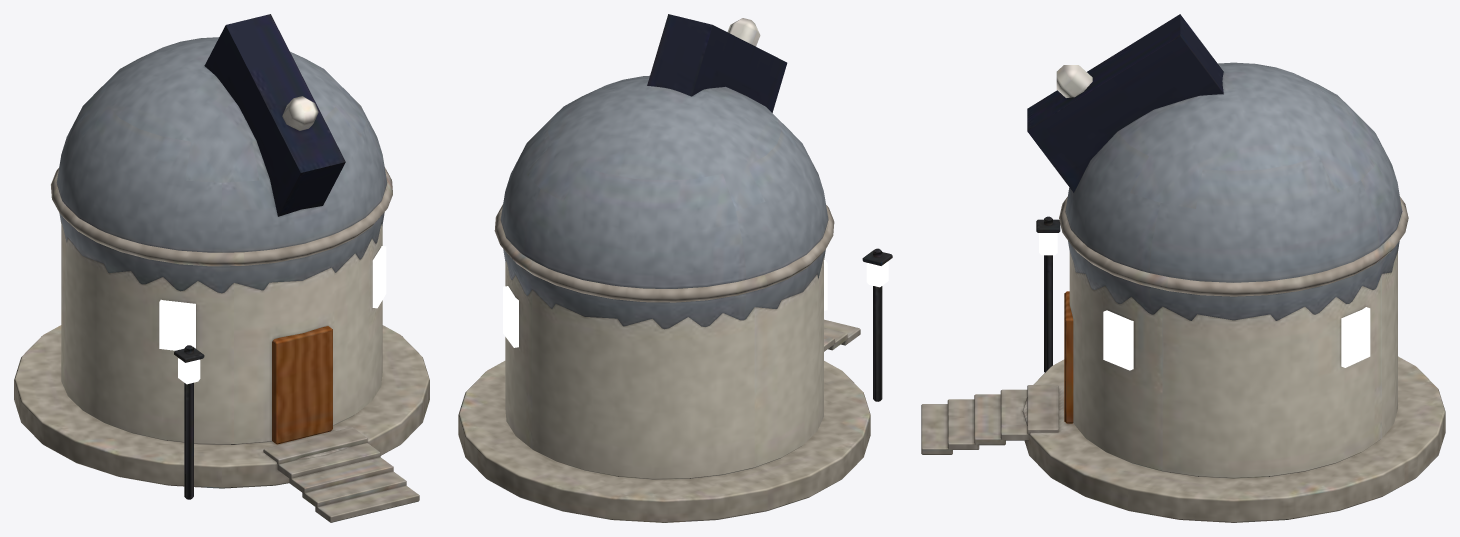
The model's file is observatory.glb.
The picture shows the model from 3 angles, left to right: view 1: azimuth 30°, elevation 25°; view 2: azimuth 150°, elevation 25°; view 3: azimuth 270°, elevation 25°; orthographic projection. The views are drawn at different scales.
Parts seen in each view (by area): view 1: observatory; view 2: observatory; view 3: observatory.
Boxes of the visible parts, x1,y1,x2,y2 form: observatory: (14,14,429,522); observatory: (458,14,892,522); observatory: (921,14,1445,522).
Size of the model in its own units: 1.6 by 1.7 by 1.98.
1 material, 1 textured.
